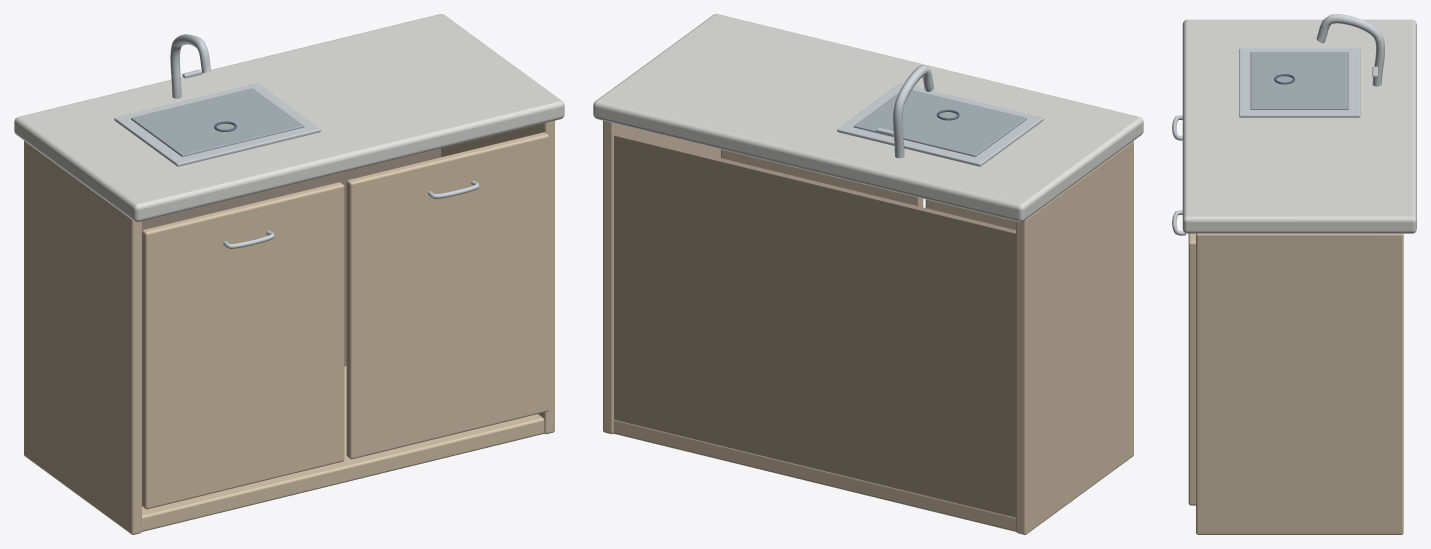
Rendered from kitchen-counter.glb.
The picture shows the model from 3 angles, left to right: view 1: azimuth 30°, elevation 25°; view 2: azimuth 150°, elevation 25°; view 3: azimuth 270°, elevation 25°; orthographic projection. The views are drawn at different scales.
Parts seen in each view (by area): view 1: kitchen-counter; view 2: kitchen-counter; view 3: kitchen-counter.
Boxes of the visible parts, x1=… form: kitchen-counter: x1=14, y1=14, x2=564, y2=534; kitchen-counter: x1=593, y1=14, x2=1143, y2=534; kitchen-counter: x1=1172, y1=14, x2=1416, y2=534.
Size of the model in its own units: 1.2 by 1.09 by 0.62.
